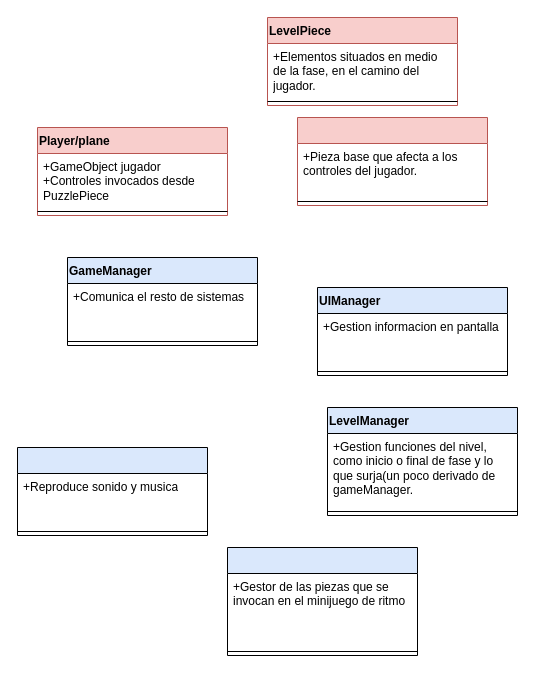
This 535x673 diagram has some shape labels left out. The box of each missing label's shape, as (x1, y1, x2, y2) in pixels:
LaneManager: (226, 546, 418, 656)
PuzzlePiece: (296, 116, 488, 206)
SoundManager: (16, 446, 208, 536)
